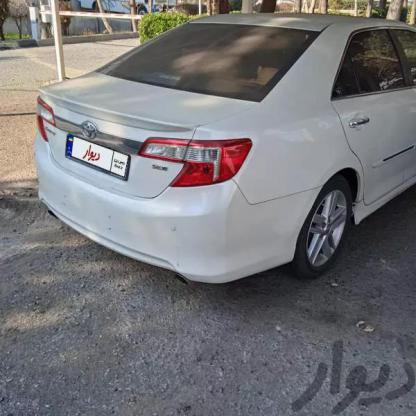car: (25, 7, 416, 293)
